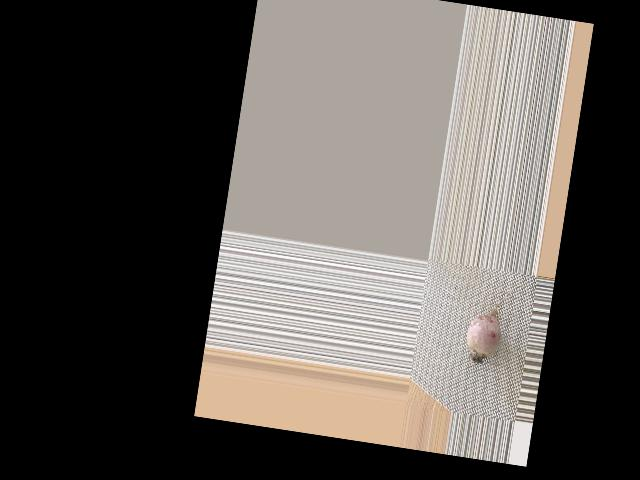beet: (463, 277, 522, 370)
